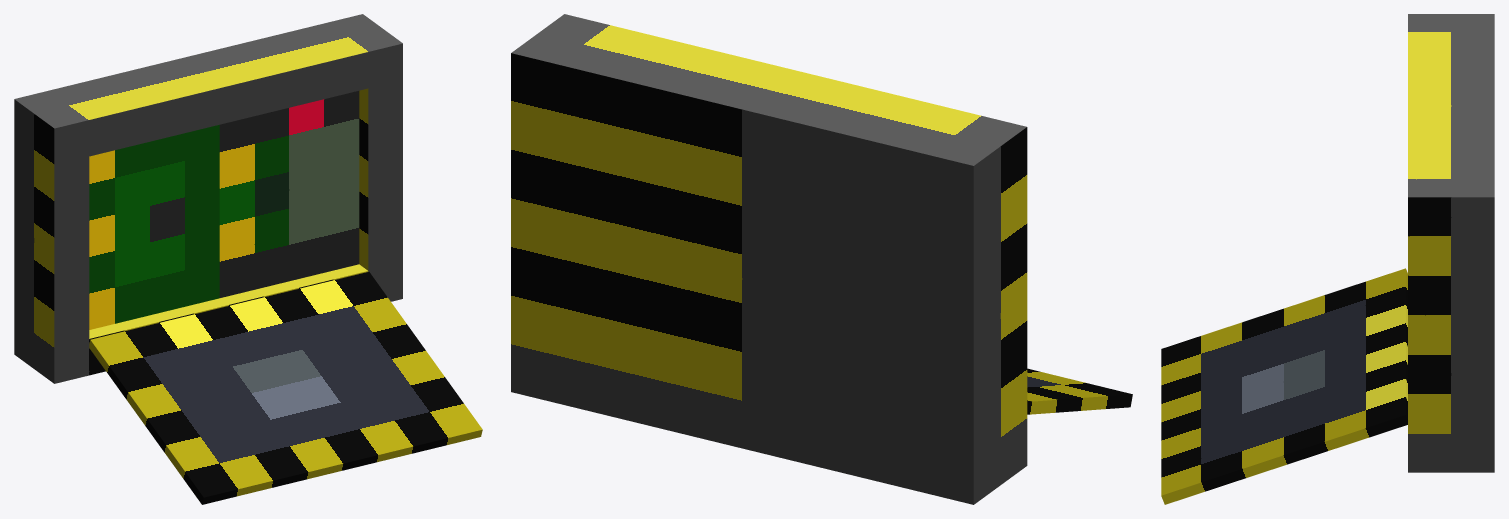
Rendered from door_button_warning_open_board_device.glb.
3 views of the same model, side by side, from view 1: azimuth 30°, elevation 25°; view 2: azimuth 150°, elevation 25°; view 3: azimuth 270°, elevation 25° (orthographic). The views are drawn at different scales.
Visible parts, largest first — view 1: Continuous_Housing, Service_Cover, Device_Module, Board_Module; view 2: Continuous_Housing, Service_Cover; view 3: Continuous_Housing, Service_Cover.
Boxes of the visible parts, x1=… form: Continuous_Housing: x1=14, y1=14, x2=402, y2=383; Service_Cover: x1=89, y1=272, x2=482, y2=504; Device_Module: x1=219, y1=91, x2=359, y2=297; Board_Module: x1=89, y1=125, x2=219, y2=329; Continuous_Housing: x1=511, y1=14, x2=1027, y2=504; Service_Cover: x1=1027, y1=368, x2=1132, y2=414; Continuous_Housing: x1=1408, y1=14, x2=1494, y2=472; Service_Cover: x1=1161, y1=268, x2=1407, y2=504.
Bounding box in the file's own units: 0.2812 × 0.2331 × 0.2162.
1 material, 1 textured.
